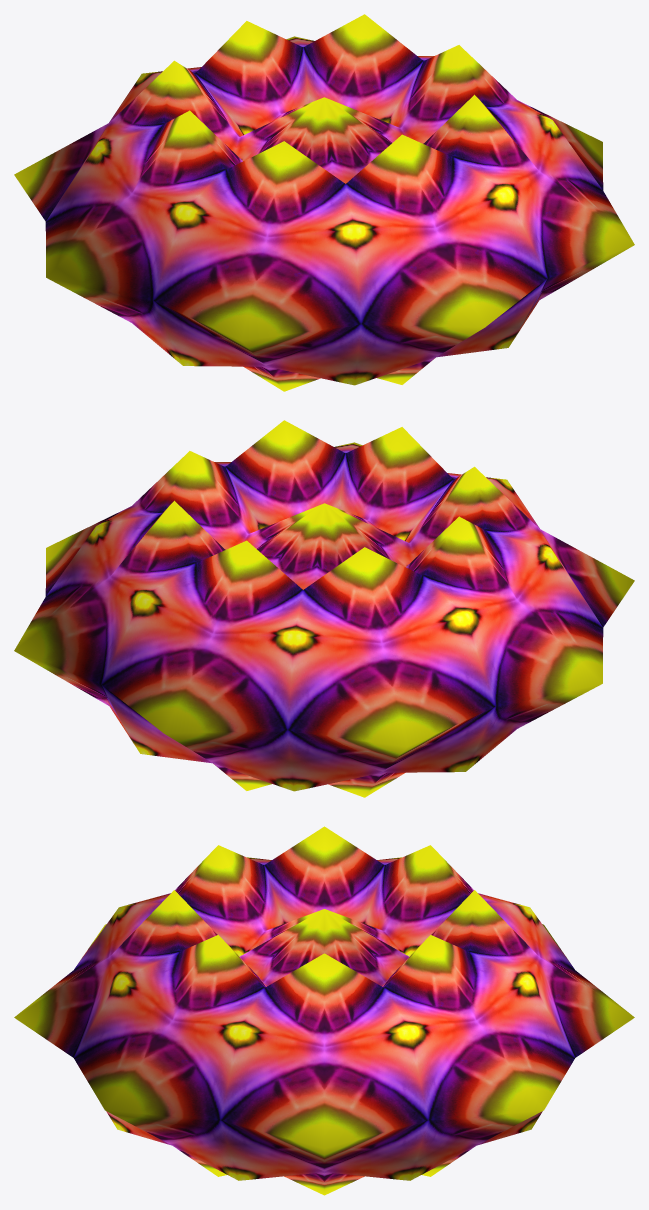
File: ufo-04.fbx
3 views of the same model, one above another, from view 1: azimuth 30°, elevation 25°; view 2: azimuth 150°, elevation 25°; view 3: azimuth 270°, elevation 25° (orthographic). The views are drawn at different scales.
Parts seen in each view (by area): view 1: ufo-04; view 2: ufo-04; view 3: ufo-04.
Part boxes in pixels (x1,y1,x2,y2): ufo-04: [14, 14, 634, 391]; ufo-04: [14, 420, 634, 797]; ufo-04: [14, 826, 634, 1195].
Bounding box in the file's own units: 71.32 × 31.25 × 71.32.
